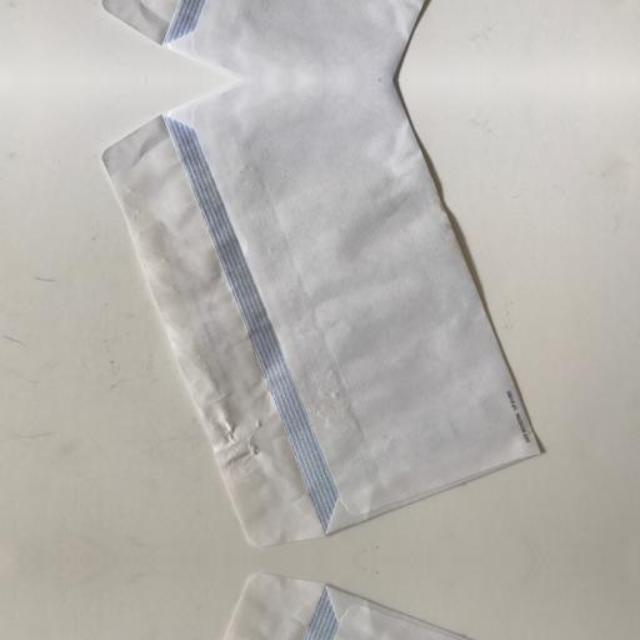paper: (100, 80, 548, 548), (100, 0, 548, 80), (100, 572, 548, 640)
